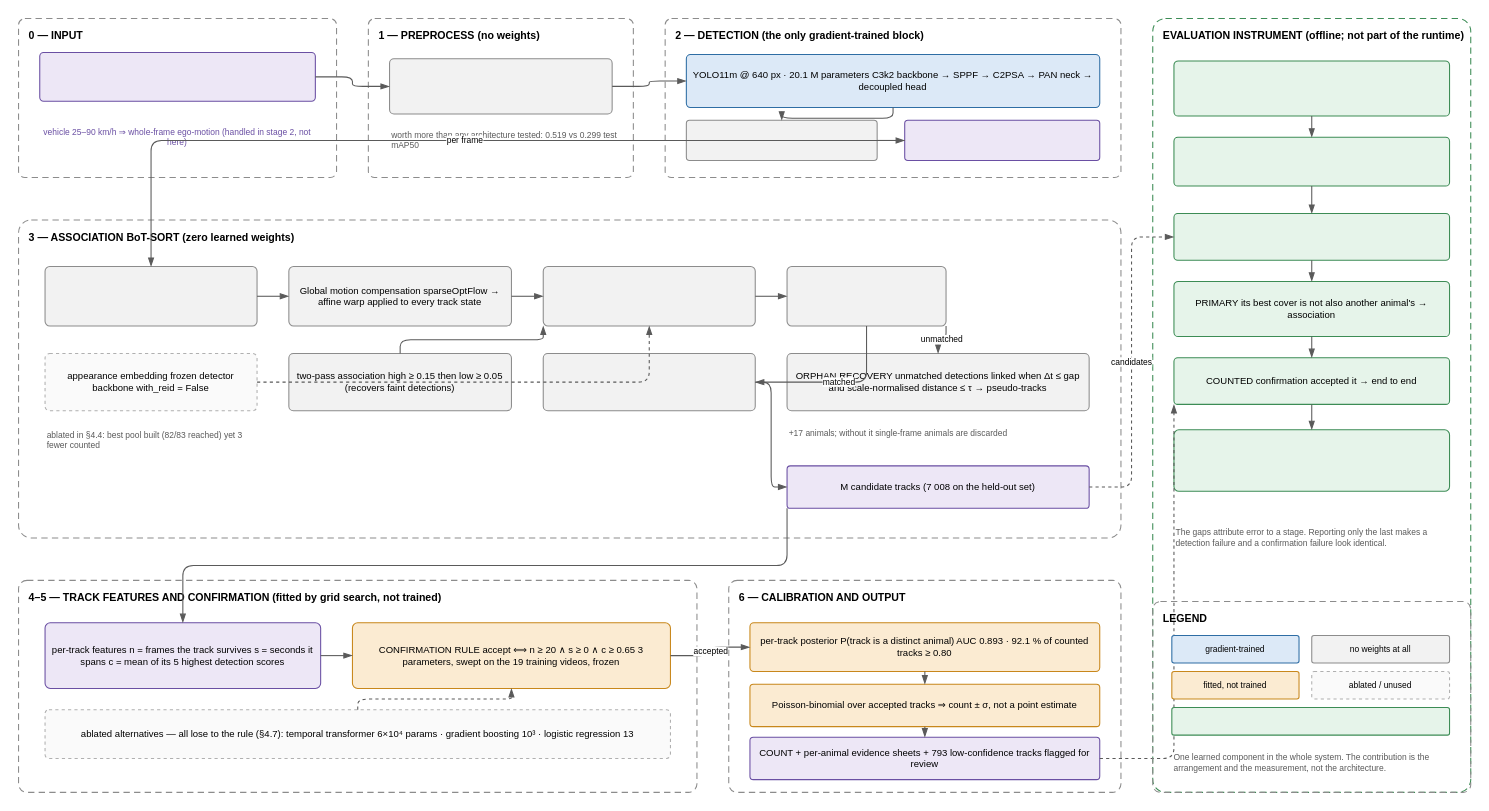
This 1489x811 diagram has some shape labels left out. Each missing label, with the centre of its shape:
"CLAHE per-frame local histogram equalisation 640×512×1 → 640×512×3" belongs at (500,86).
"cost matrix IoU fused with detection score match_thresh 0.80" belongs at (648,296).
"CVAT ground truth one annotated track = one animal 236 animals · 21 646 boxes" belongs at (1311,88).
"Dt = {(x, y, w, h, s)} score ≥ 0.10" belongs at (1002,140).
"evaluation only — never touches the runtime" belongs at (1310,720).
"FLIR thermal transect 640 × 512 × 1, 60 fps, ~10.6 k frames" belongs at (177,76).
"held-out result 98.8 % → 88.0 % → 62.7 % MAE 2.38 animals / video" belongs at (1311,460).
"Hungarian assignment" belongs at (866,296).
"Kalman predict 8-state (x, y, a, h, ẋ, ẏ, ȧ, ḣ) constant-velocity motion model" belongs at (150,296).
"matching criterion any-overlap (counting) vs IoU ≥ 0.50" belongs at (1311,161).
"NMS, IoU 0.50" belongs at (781,140).
"REACHED touched by ≥ 1 candidate → detection" belongs at (1311,236).
"track lifecycle new_track_thresh 0.15 buffer 60 frames" belongs at (648,381).
